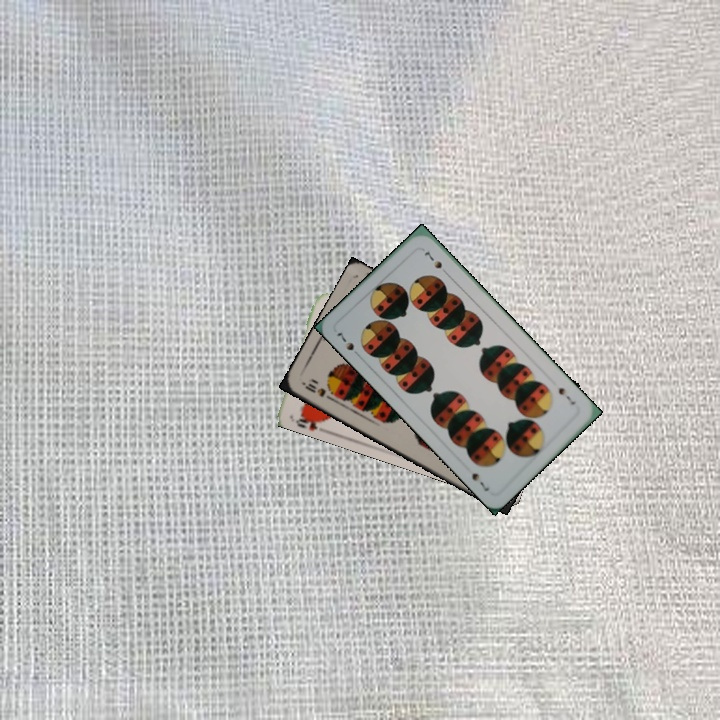HO: (291, 408, 330, 433)
S10: (299, 378, 336, 404)
S7: (332, 328, 363, 360), (554, 384, 578, 407)
